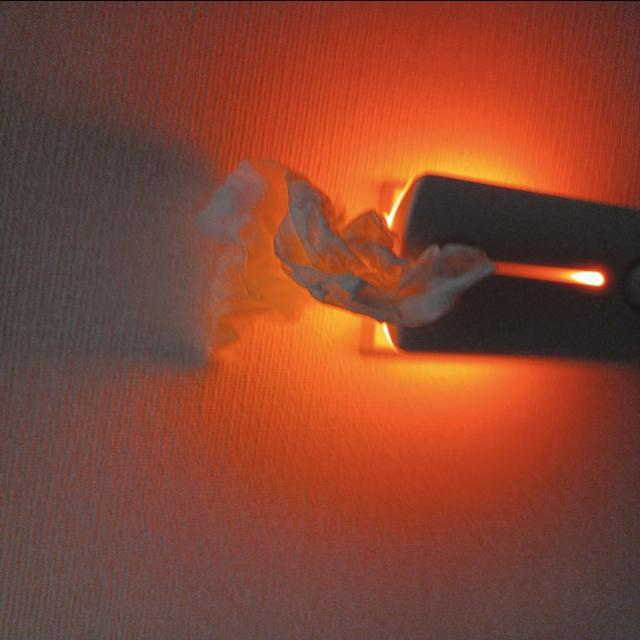Paper: (196, 144, 484, 360)
